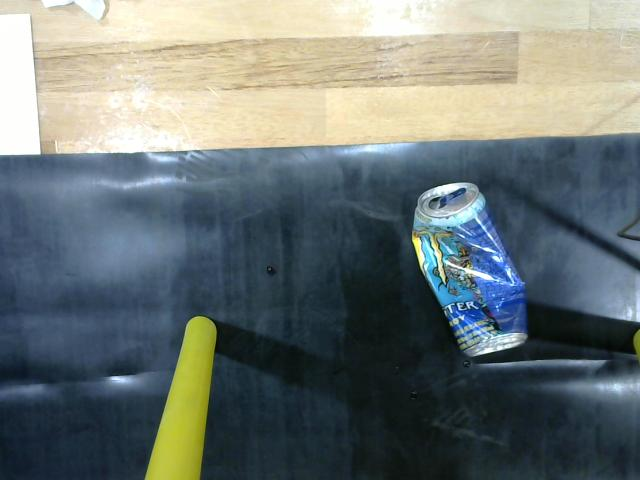can: (401, 176, 534, 364)
